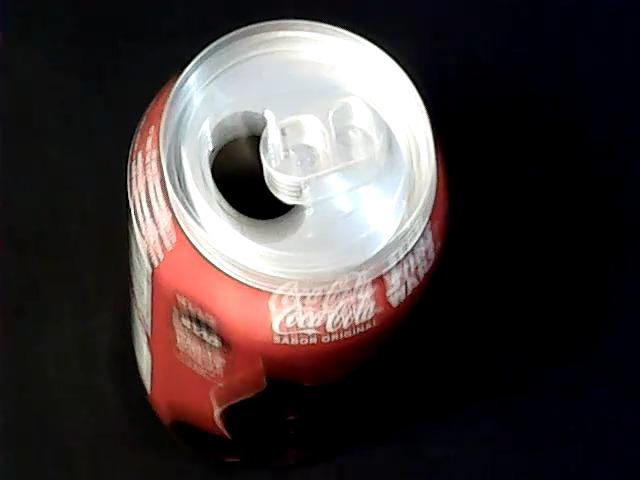coke: (129, 21, 444, 461)
